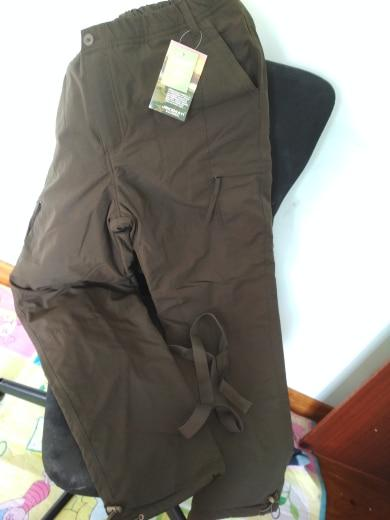pants: (16, 1, 299, 520)
